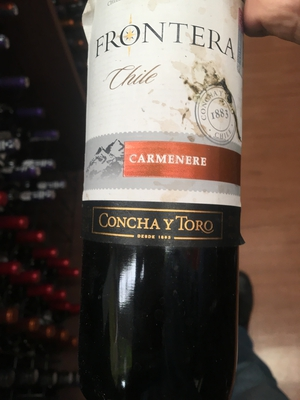frontera carmenere: (71, 1, 251, 400)
